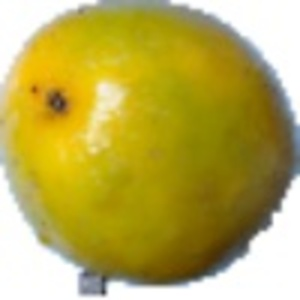maracujá: (1, 1, 300, 298)
